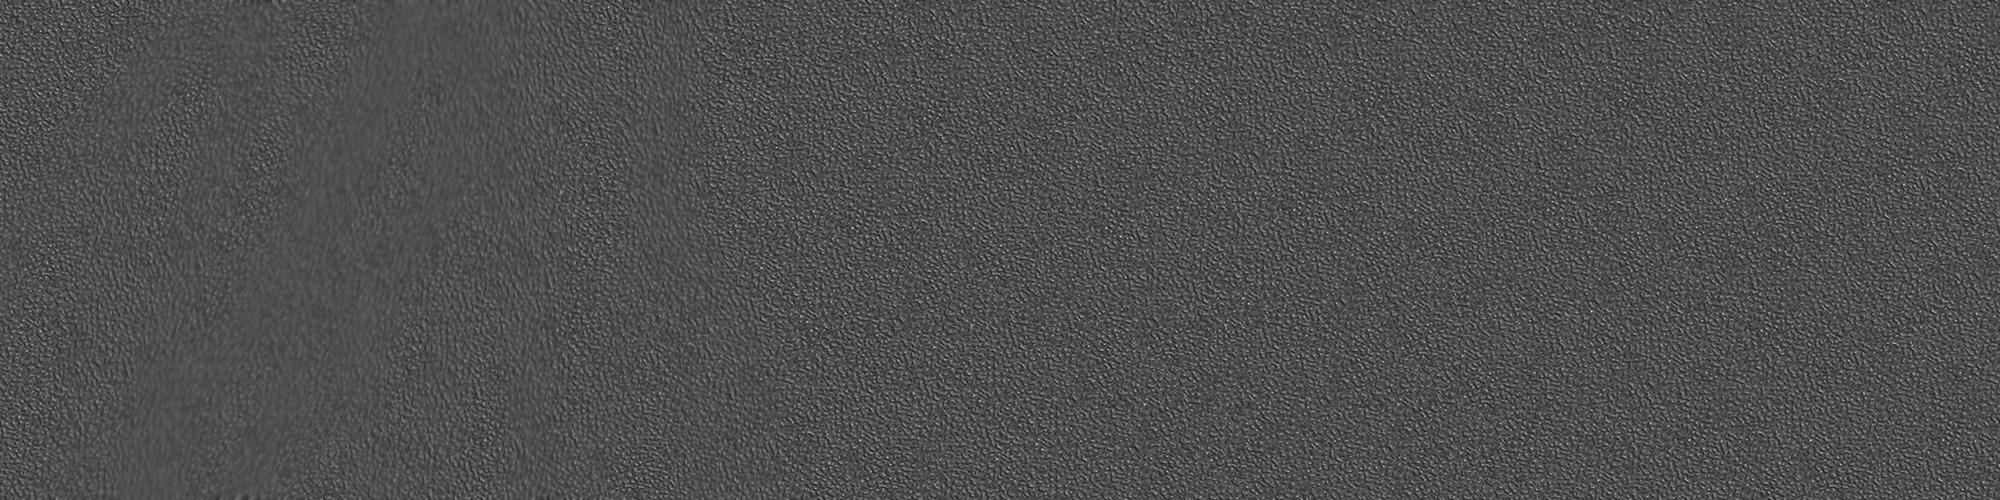Flow_Lines: (80, 19, 538, 492)
